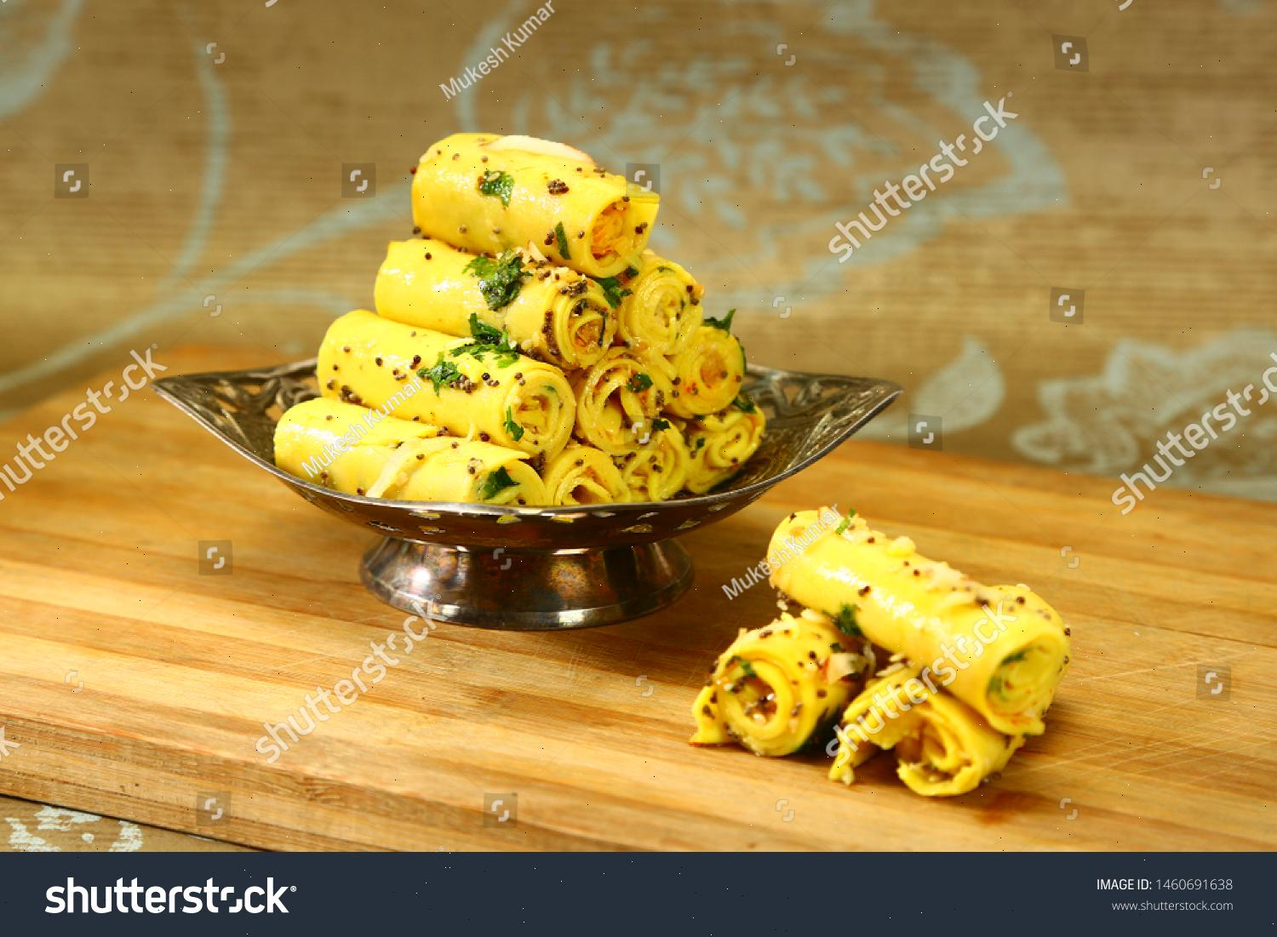khandvi: (411, 117, 762, 494), (766, 513, 1075, 791)
